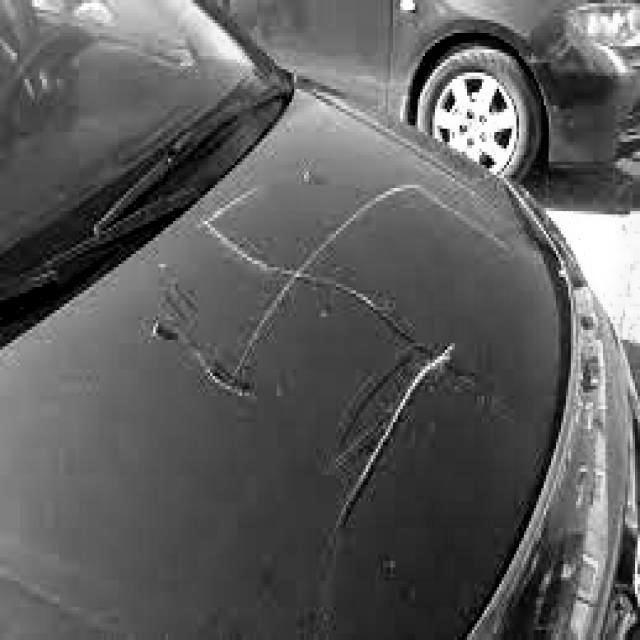bonnet-dent: (102, 135, 571, 603)
